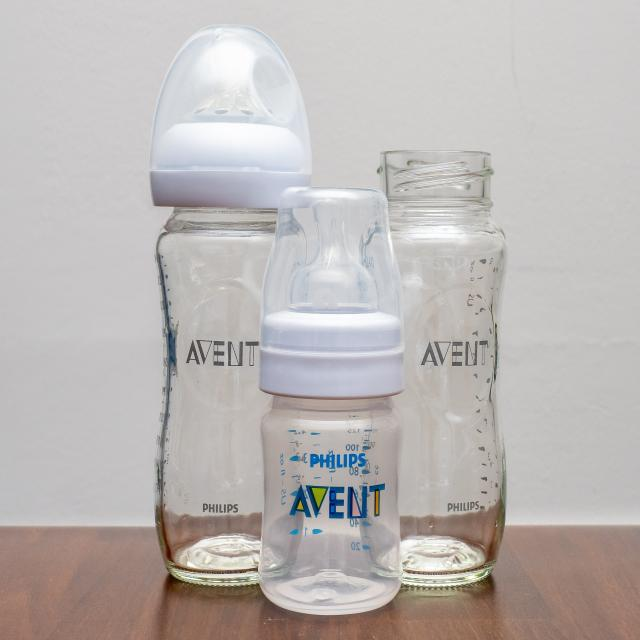plastic_bottle: (148, 22, 312, 587)
